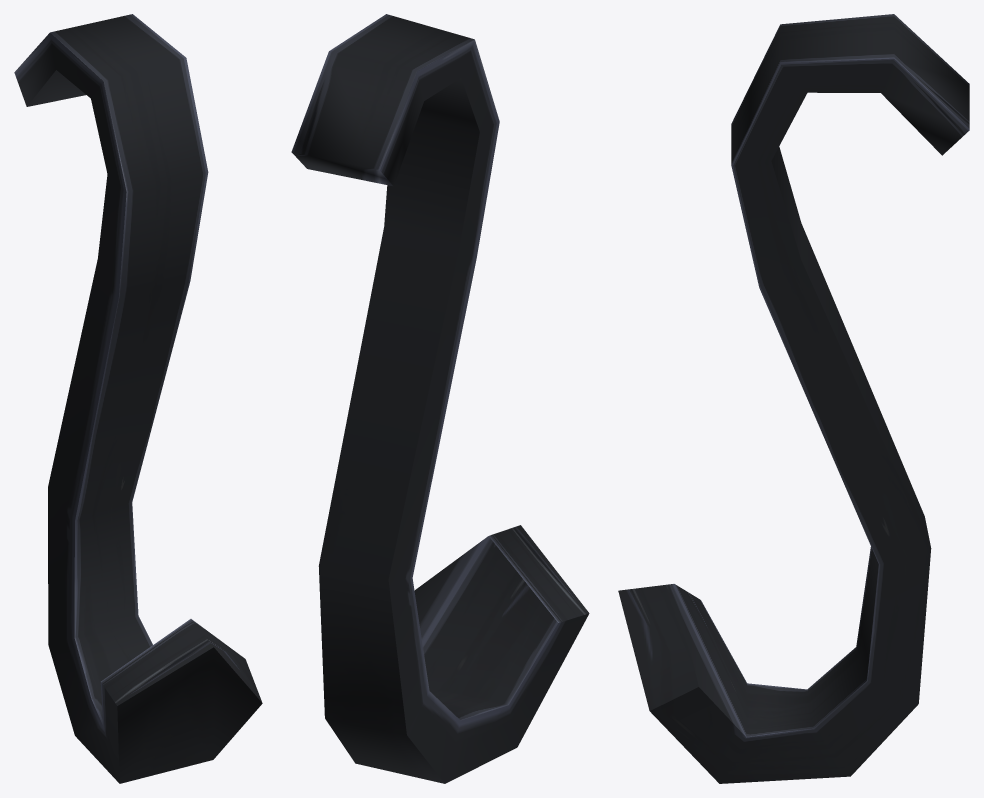
File: SM_PROP_fireplace_hook_dungeon_01.fbx
The picture shows the model from 3 angles, left to right: view 1: azimuth 30°, elevation 25°; view 2: azimuth 150°, elevation 25°; view 3: azimuth 270°, elevation 25°; orthographic projection. The views are drawn at different scales.
Visible parts, largest first — view 1: SM_PROP_fireplace_hook_dungeon_01; view 2: SM_PROP_fireplace_hook_dungeon_01; view 3: SM_PROP_fireplace_hook_dungeon_01.
Boxes of the visible parts, x1=… form: SM_PROP_fireplace_hook_dungeon_01: x1=14, y1=14, x2=262, y2=783; SM_PROP_fireplace_hook_dungeon_01: x1=291, y1=14, x2=589, y2=783; SM_PROP_fireplace_hook_dungeon_01: x1=618, y1=14, x2=969, y2=783.
Size of the model in its own units: 10.17 by 44.58 by 19.46.
